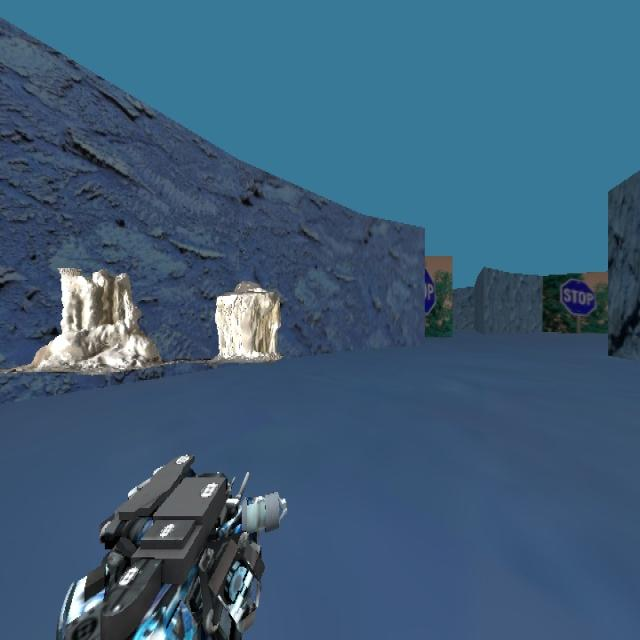Ice: (26, 233, 162, 398), (210, 277, 300, 374)
Stop_Sign: (559, 278, 597, 318), (424, 267, 436, 313)
